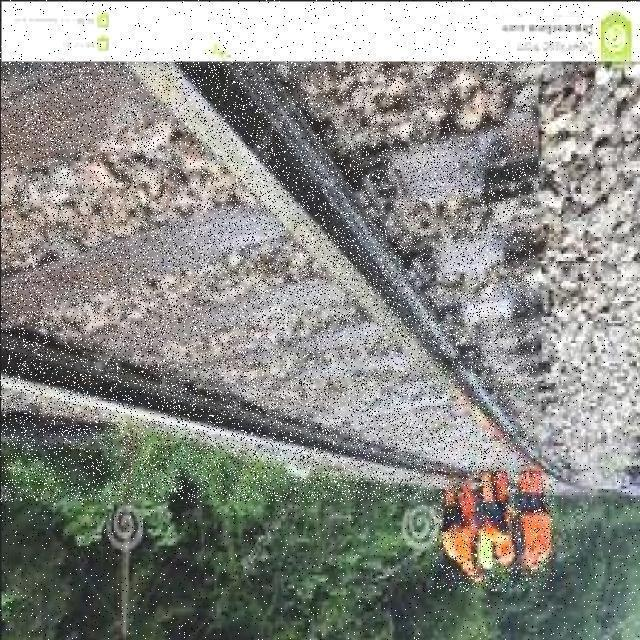rail: (2, 63, 536, 503)
